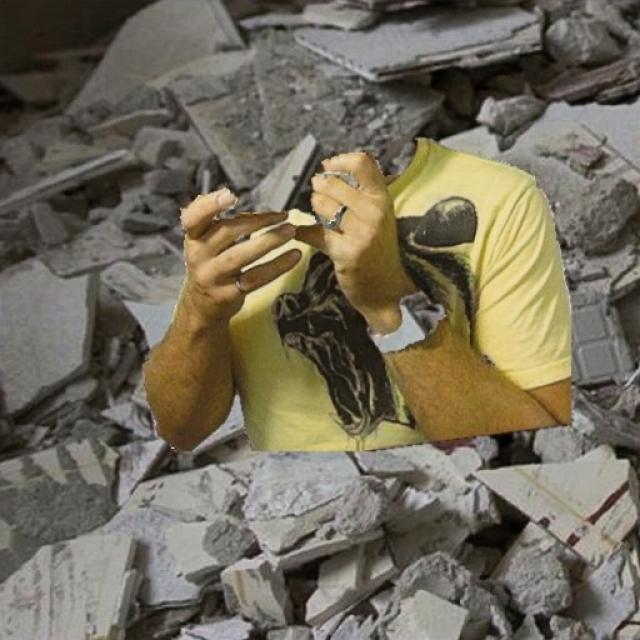Person in Rubble: (142, 137, 570, 450)
